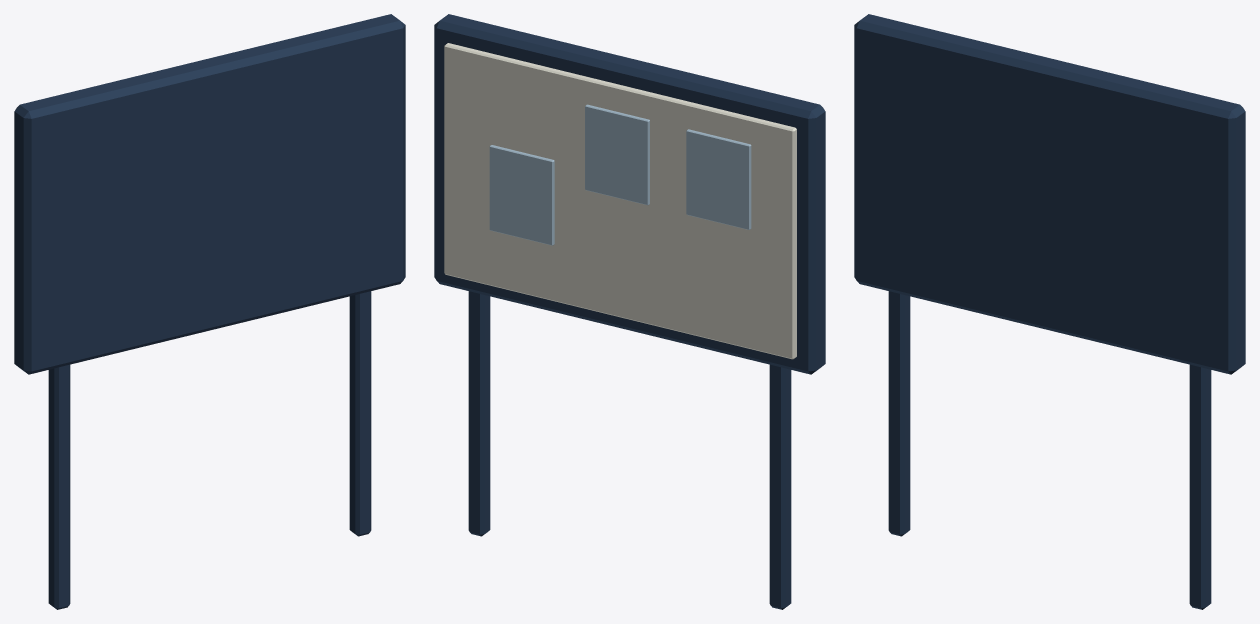
File: notice_board.glb
3 renders of one model, left to right at view 1: azimuth 30°, elevation 25°; view 2: azimuth 150°, elevation 25°; view 3: azimuth 330°, elevation 25°, orthographic.
Parts seen in each view (by area): view 1: frame, post (×2); view 2: board, frame, paper (×3), post (×2); view 3: frame, post (×2).
Boxes of the visible parts, x1,y1,x2,y2 form: frame: (14,14,405,374); post (×2): (48,291,371,609); board: (444,43,796,359); frame: (434,14,825,374); paper (×3): (489,104,751,245); post (×2): (468,291,791,609); frame: (854,14,1245,374); post (×2): (888,291,1211,609).
Size of the model in its own units: 1.32 by 1.67 by 0.1255.
